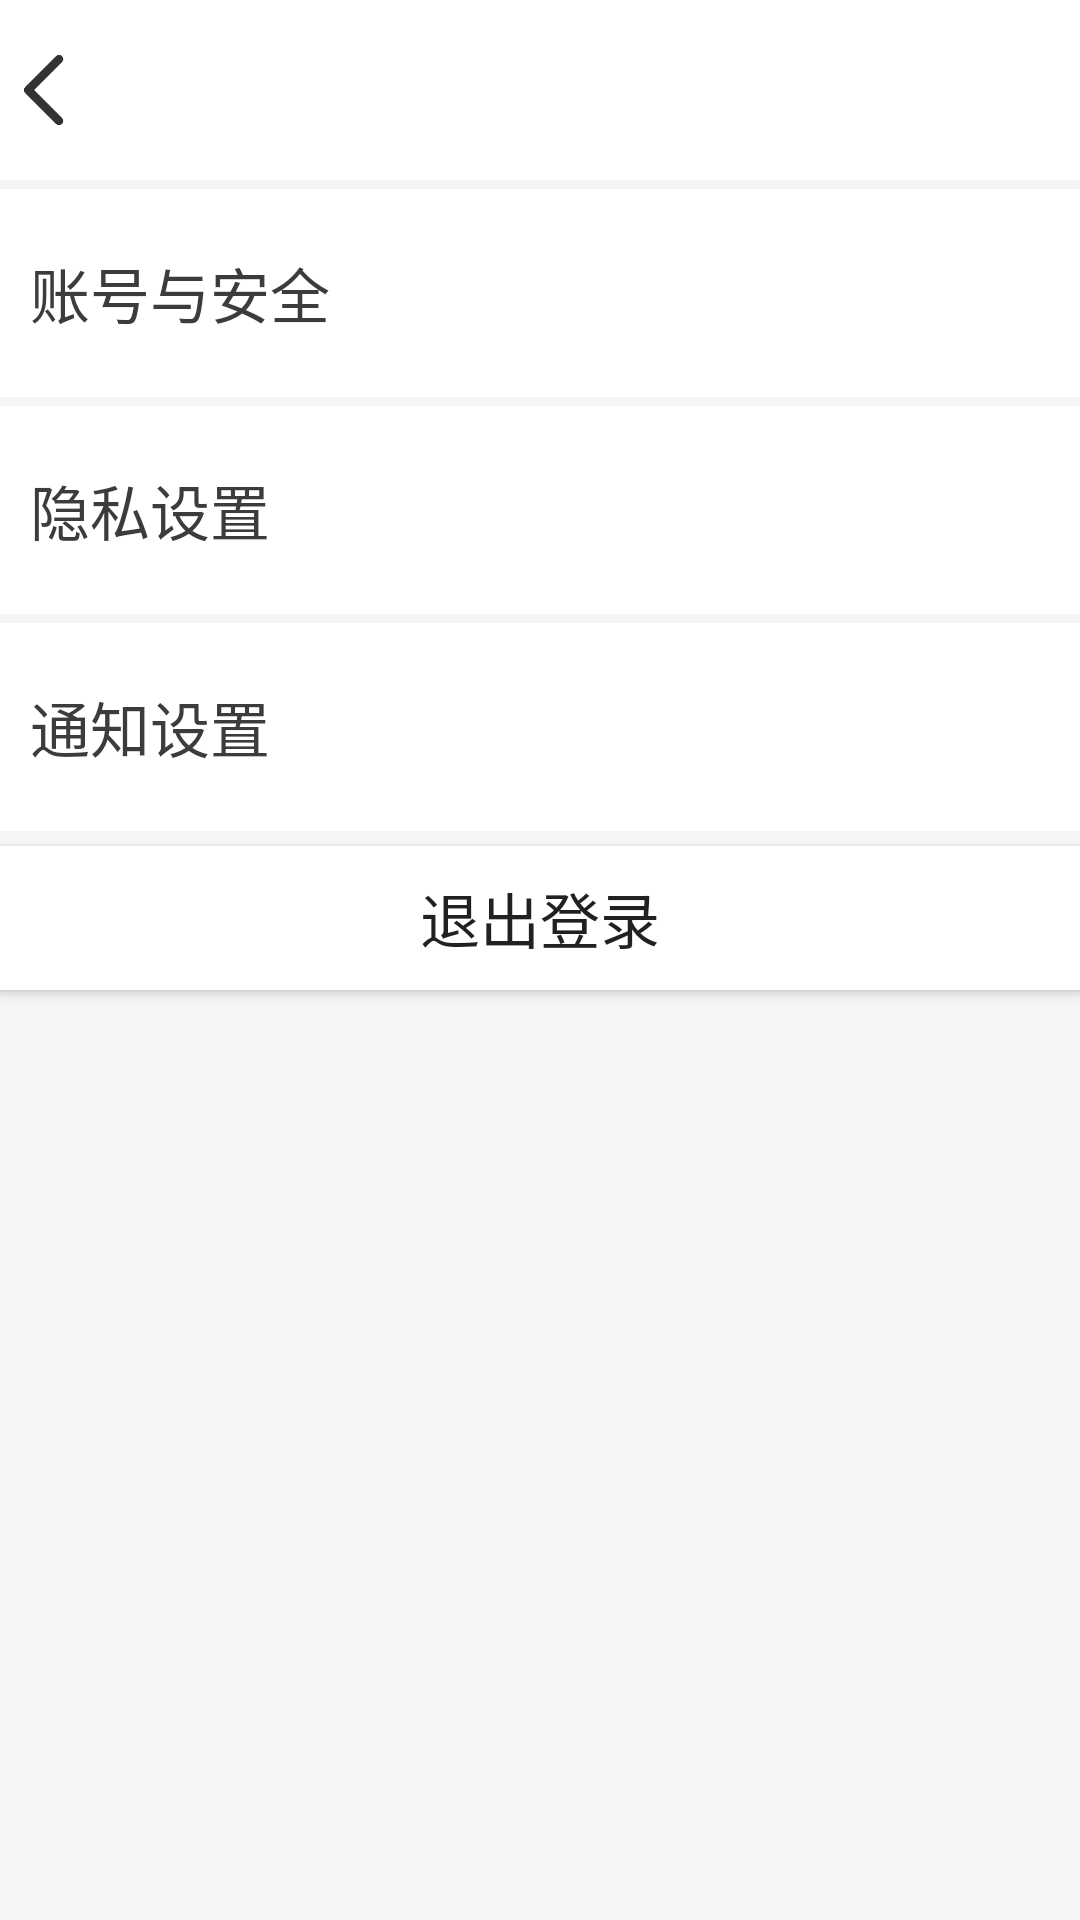

Screen size 1080x1920. Icon name, then its box in pixels as (x1, y1, x2, y2):
back: (24, 55, 64, 125)
